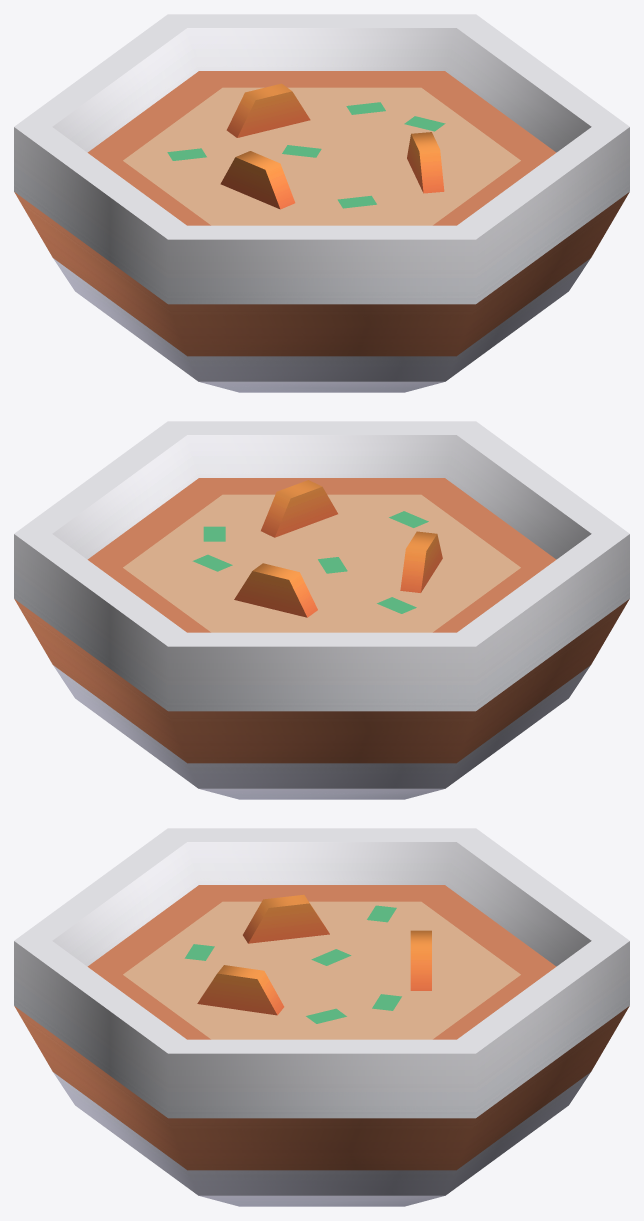
The model's file is soup.glb.
3 renders of one model, top to bottom at view 1: azimuth 30°, elevation 25°; view 2: azimuth 150°, elevation 25°; view 3: azimuth 270°, elevation 25°, orthographic.
Parts seen in each view (by area): view 1: bowl-soup; view 2: bowl-soup; view 3: bowl-soup.
Part boxes in pixels (x1,y1,x2,y2): bowl-soup: (14,14,629,392); bowl-soup: (14,421,629,799); bowl-soup: (14,828,629,1206).
Bounding box in the file's own units: 0.1299 × 0.0553 × 0.15.
1 material, 1 textured.
